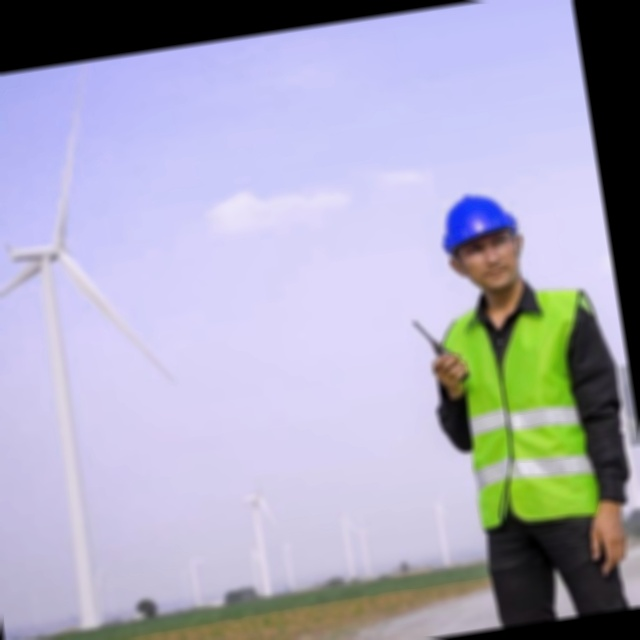Con_Casco: (435, 186, 530, 299)
Con_Chaleco: (435, 282, 632, 536)
